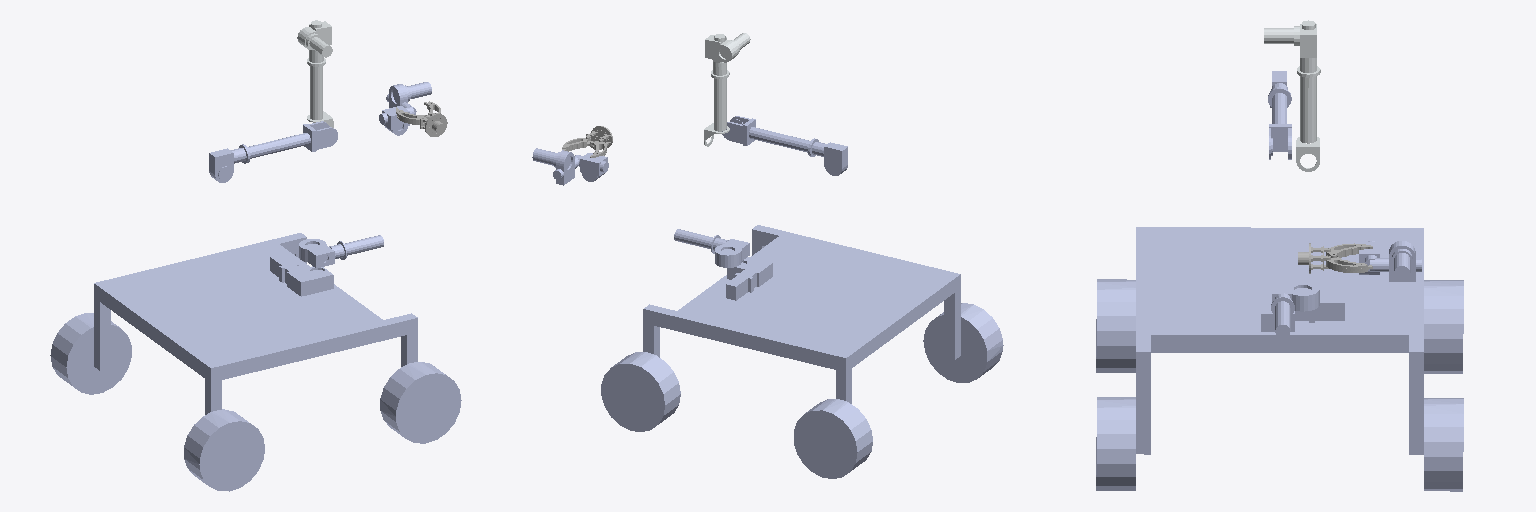
The robot description file, URDF, robot "arm_description":
<?xml version="1.0" encoding="utf-8"?>

<robot
  name="arm_description">
  
  <link name="world">
  </link>

  <joint 
    name="anchor_joint" 
    type="fixed" >
    <origin
      xyz="0 0 1"
      rpy="3.14 0 0" />
    <parent
      link="world" />
    <child
      link="base_link" />
  </joint>

  <link
    name="base_link">
    <inertial>
      <origin
        xyz="0.784990805509548 0.637296392786603 0.699576535800332"
        rpy="0 0 0" />
      <mass
        value="92.1170480325152" />
      <inertia
        ixx="1"
        ixy="1"
        ixz="0"
        iyy="1"
        iyz="0"
        izz="1" />
    </inertial>
    <visual>
      <origin
        xyz="0 0 0"
        rpy="0 0 0" />
      <geometry>
        <mesh
          filename="package://arm_description/meshes/base_link.STL" />
      </geometry>
      <material
        name="">
        <color
          rgba="0.792156862745098 0.819607843137255 0.933333333333333 1" />
      </material>
    </visual>
    <collision>
      <origin
        xyz="0 0 0"
        rpy="0 0 0" />
      <geometry>
        <mesh
          filename="package://arm_description/meshes/base_link.STL" />
      </geometry>
    </collision>
  </link>
  
  <link
    name="link1">
    <inertial>
      <origin
        xyz="0.0395053712709794 0.00770230909756575 0.0284292729379571"
        rpy="0 0 0" />
      <mass
        value="0.990792255330962" />
      <inertia
        ixx="1"
        ixy="1"
        ixz="0"
        iyy="1"
        iyz="0"
        izz="1" />
    </inertial>
    <visual>
      <origin
        xyz="0 0 0"
        rpy="0 0 0" />
      <geometry>
        <mesh
          filename="package://arm_description/meshes/link1.STL" />
      </geometry>
      <material
        name="">
        <color
          rgba="0.792156862745098 0.819607843137255 0.933333333333333 1" />
      </material>
    </visual>
    <collision>
      <origin
        xyz="0 0 0"
        rpy="0 0 0" />
      <geometry>
        <mesh
          filename="package://arm_description/meshes/link1.STL" />
      </geometry>
    </collision>
  </link>
  
  <joint
    name="joint1"
    type="revolute">
    <origin
      xyz="1.11809345478857 -0.671499228198899 0.352488805901295"
      rpy="-1.5707963267949 0 3.14159265358979" />
    <parent
      link="base_link" />
    <child
      link="link1" />
    <axis
      xyz="0 1 0" />
    <limit
      lower="-3.14"
      upper="3.14"
      effort="100"
      velocity="20" />
  </joint>
  
  <link
    name="link2">
    <inertial>
      <origin
        xyz="0.207915471479058 -0.0204954389839018 0.0248850102166089"
        rpy="0 0 0" />
      <mass
        value="1.56702644768336" />
      <inertia
        ixx="1"
        ixy="1"
        ixz="0"
        iyy="1"
        iyz="0"
        izz="1" />
    </inertial>
    <visual>
      <origin
        xyz="0 0 0"
        rpy="0 0 0" />
      <geometry>
        <mesh
          filename="package://arm_description/meshes/link2.STL" />
      </geometry>
      <material
        name="">
        <color
          rgba="0.792156862745098 0.819607843137255 0.933333333333333 1" />
      </material>
    </visual>
    <collision>
      <origin
        xyz="0 0 0"
        rpy="0 0 0" />
      <geometry>
        <mesh
          filename="package://arm_description/meshes/link2.STL" />
      </geometry>
    </collision>
  </link>
  
  <joint
    name="joint2"
    type="revolute">
    <origin
      xyz="-0.0120242146656717 0.536975785334328 0.0579565358894426"
      rpy="3.14159265358979 0 -1.5707963267949" />
    <parent
      link="link1" />
    <child
      link="link2" />
    <axis
      xyz="0 0 0" />
    <limit
      lower="-3.14"
      upper="3.14"
      effort="100"
      velocity="20" />
  </joint>
  
  <link
    name="link3">
    <inertial>
      <origin
        xyz="0.0103146450264884 0.00463587622434214 -0.253568156076182"
        rpy="0 0 0" />
      <mass
        value="4.49311908049434" />
      <inertia
        ixx="0.011285085138619"
        ixy="-5.8451240418789E-05"
        ixz="0.000418543816314045"
        iyy="0.0110850262405422"
        iyz="0.00154585606360207"
        izz="0.000231710493344002" />
    </inertial>
    <visual>
      <origin
        xyz="0 0 0"
        rpy="0 0 0" />
      <geometry>
        <mesh
          filename="package://arm_description/meshes/link3.STL" />
      </geometry>
      <material
        name="">
        <color
          rgba="0.898039215686275 0.917647058823529 0.929411764705882 1" />
      </material>
    </visual>
    <collision>
      <origin
        xyz="0 0 0"
        rpy="0 0 0" />
      <geometry>
        <mesh
          filename="package://arm_description/meshes/link3.STL" />
      </geometry>
    </collision>
  </link>
  
  <joint
    name="joint3"
    type="revolute">
    <origin
      xyz="0.0173266017706057 0.0706491835637237 -0.0599999999999999"
      rpy="-1.5707963267949 0 3.14159265358979" />
    <parent
      link="link2" />
    <child
      link="link3" />
    <axis
      xyz="0 1 0" />
    <limit
      lower="-3.14"
      upper="3.14"
      effort="100"
      velocity="20" />
  </joint>
  
  <link
    name="link4">
    <inertial>
      <origin
        xyz="-0.0140455165710528 -0.127140183941276 0.0132073879549877"
        rpy="0 0 0" />
      <mass
        value="0.738531576468679" />
      <inertia
        ixx="1"
        ixy="1"
        ixz="0"
        iyy="1"
        iyz="0"
        izz="1" />
    </inertial>
    <visual>
      <origin
        xyz="0 0 0"
        rpy="0 0 0" />
      <geometry>
        <mesh
          filename="package://arm_description/meshes/link4.STL" />
      </geometry>
      <material
        name="">
        <color
          rgba="0.792156862745098 0.819607843137255 0.933333333333333 1" />
      </material>
    </visual>
    <collision>
      <origin
        xyz="0 0 0"
        rpy="0 0 0" />
      <geometry>
        <mesh
          filename="package://arm_description/meshes/link4.STL" />
      </geometry>
    </collision>
  </link>
  
  <joint
    name="joint4"
    type="revolute">
    <origin
      xyz="-0.139051207414672 0.0269999999998711 -0.500002721588281"
      rpy="-1.57079632679495 -1.38777878078144E-15 -3.14159265358979" />
    <parent
      link="link3" />
    <child
      link="link4" />
    <axis
      xyz="1 0 0" />
    <limit
      lower="-3.14"
      upper="3.14"
      effort="100"
      velocity="20" />
  </joint>
  
  <link
    name="link5">
    <inertial>
      <origin
        xyz="0.0766095654706823 0.0198118512247197 -0.0335271292413999"
        rpy="0 0 0" />
      <mass
        value="0.583439980133474" />
      <inertia
        ixx="1"
        ixy="1"
        ixz="0"
        iyy="1"
        iyz="0"
        izz="1" />
    </inertial>
    <visual>
      <origin
        xyz="0 0 0"
        rpy="0 0 0" />
      <geometry>
        <mesh
          filename="package://arm_description/meshes/link5.STL" />
      </geometry>
      <material
        name="">
        <color
          rgba="0.792156862745098 0.819607843137255 0.933333333333333 1" />
      </material>
    </visual>
    <collision>
      <origin
        xyz="0 0 0"
        rpy="0 0 0" />
      <geometry>
        <mesh
          filename="package://arm_description/meshes/link5.STL" />
      </geometry>
    </collision>
  </link>
  
  <joint
    name="joint5"
    type="revolute">
    <origin
      xyz="-0.00121372676860452 -0.136002721588221 -0.178639022428853"
      rpy="1.5707963267949 -1.5707963267949 0" />
    <parent
      link="link4" />
    <child
      link="link5" />
    <axis
      xyz="0 0 0" />
    <limit
      lower="-3.14"
      upper="3.14"
      effort="100"
      velocity="20" />
  </joint>
  
  <link
    name="link6">
    <inertial>
      <origin
        xyz="0.0149443387825755 0.039468715313824 0.0444532167608513"
        rpy="0 0 0" />
      <mass
        value="0.868249563215015" />
      <inertia
        ixx="0.00312646246030417"
        ixy="-2.30420803322864E-05"
        ixz="-1.26038502551463E-18"
        iyy="0.00151709665423134"
        iyz="-1.67461801803964E-16"
        izz="0.00457880133964684" />
    </inertial>
    <visual>
      <origin
        xyz="0 0 0"
        rpy="0 0 0" />
      <geometry>
        <mesh
          filename="package://arm_description/meshes/link6.STL" />
      </geometry>
      <material
        name="">
        <color
          rgba="0.752941176470588 0.752941176470588 0.752941176470588 1" />
      </material>
    </visual>
    <collision>
      <origin
        xyz="0 0 0"
        rpy="0 0 0" />
      <geometry>
        <mesh
          filename="package://arm_description/meshes/link6.STL" />
      </geometry>
    </collision>
  </link>
  
  <joint
    name="joint6"
    type="revolute">
    <origin
      xyz="0.118092239189695 0.0226342752571765 -0.135417585180578"
      rpy="-1.5707963267949 1.38777878078144E-15 1.5707963267949" />
    <parent
      link="link5" />
    <child
      link="link6" />
    <axis
      xyz="0 0 0" />
    <limit
      lower="-3.14"
      upper="3.14"
      effort="100"
      velocity="20" />
  </joint>

  <transmission name="tran1">
    <type>transmission_interface/SimpleTransmission</type>
    <joint name="joint1">
      <hardwareInterface>hardware_interface/EffortJointInterface</hardwareInterface>
    </joint>
    <actuator name="motor1">
      <hardwareInterface>hardware_interface/EffortJointInterface</hardwareInterface>
      <mechanicalReduction>1</mechanicalReduction>
    </actuator>
  </transmission>

  <transmission name="tran2">
    <type>transmission_interface/SimpleTransmission</type>
    <joint name="joint2">
      <hardwareInterface>hardware_interface/EffortJointInterface</hardwareInterface>
    </joint>
    <actuator name="motor2">
      <hardwareInterface>hardware_interface/EffortJointInterface</hardwareInterface>
      <mechanicalReduction>1</mechanicalReduction>
    </actuator>
  </transmission>

  <transmission name="tran3">
    <type>transmission_interface/SimpleTransmission</type>
    <joint name="joint3">
      <hardwareInterface>hardware_interface/EffortJointInterface</hardwareInterface>
    </joint>
    <actuator name="motor3">
      <hardwareInterface>hardware_interface/EffortJointInterface</hardwareInterface>
      <mechanicalReduction>1</mechanicalReduction>
    </actuator>
  </transmission>

  <transmission name="tran4">
    <type>transmission_interface/SimpleTransmission</type>
    <joint name="joint4">
      <hardwareInterface>hardware_interface/EffortJointInterface</hardwareInterface>
    </joint>
    <actuator name="motor4">
      <hardwareInterface>hardware_interface/EffortJointInterface</hardwareInterface>
      <mechanicalReduction>1</mechanicalReduction>
    </actuator>
  </transmission>

  <transmission name="tran5">
    <type>transmission_interface/SimpleTransmission</type>
    <joint name="joint5">
      <hardwareInterface>hardware_interface/EffortJointInterface</hardwareInterface>
    </joint>
    <actuator name="motor5">
      <hardwareInterface>hardware_interface/EffortJointInterface</hardwareInterface>
      <mechanicalReduction>1</mechanicalReduction>
    </actuator>
  </transmission>

  <transmission name="tran6">
    <type>transmission_interface/SimpleTransmission</type>
    <joint name="joint6">
      <hardwareInterface>hardware_interface/EffortJointInterface</hardwareInterface>
    </joint>
    <actuator name="motor6">
      <hardwareInterface>hardware_interface/EffortJointInterface</hardwareInterface>
      <mechanicalReduction>1</mechanicalReduction>
    </actuator>
  </transmission>

  <gazebo>
    <plugin name="gazebo_ros_control" filename="libgazebo_ros_control.so">
    </plugin>
  </gazebo>


</robot>

--- Facts derived from the render (not from the file) ---
The picture shows the robot from 3 angles, left to right: view 1: azimuth 30°, elevation 25°; view 2: azimuth 150°, elevation 25°; view 3: azimuth 270°, elevation 25°; orthographic projection.
Robot: arm_description — 8 links, 7 joints (6 revolute, 1 fixed); root link world; default pose: every joint at zero.
Links seen in each view (by area): view 1: base_link, link2, link3, link1, link6, link4, link5; view 2: base_link, link2, link3, link1, link4, link6, link5; view 3: base_link, link3, link1, link2, link6, link4.
Link boxes in pixels (x1,y1,x2,y2): base_link: (50,233,461,491); link2: (209,121,337,182); link3: (297,20,333,127); link1: (299,235,383,268); link6: (396,101,447,136); link4: (386,82,431,114); link5: (379,106,414,135); base_link: (601,225,1003,478); link2: (722,116,847,175); link3: (704,33,750,146); link1: (674,229,749,267); link4: (532,148,578,185); link6: (562,126,612,157); link5: (575,153,608,181); base_link: (1096,227,1463,491); link3: (1264,20,1320,171); link1: (1271,282,1319,338); link2: (1268,71,1291,159); link6: (1298,243,1372,273); link4: (1370,241,1421,281).
Bounding box of the posed robot: 1.63 × 1.19 × 1.61 m (x, y, z).
7 mesh visuals loaded from 7 distinct referenced files (7 binary STL).